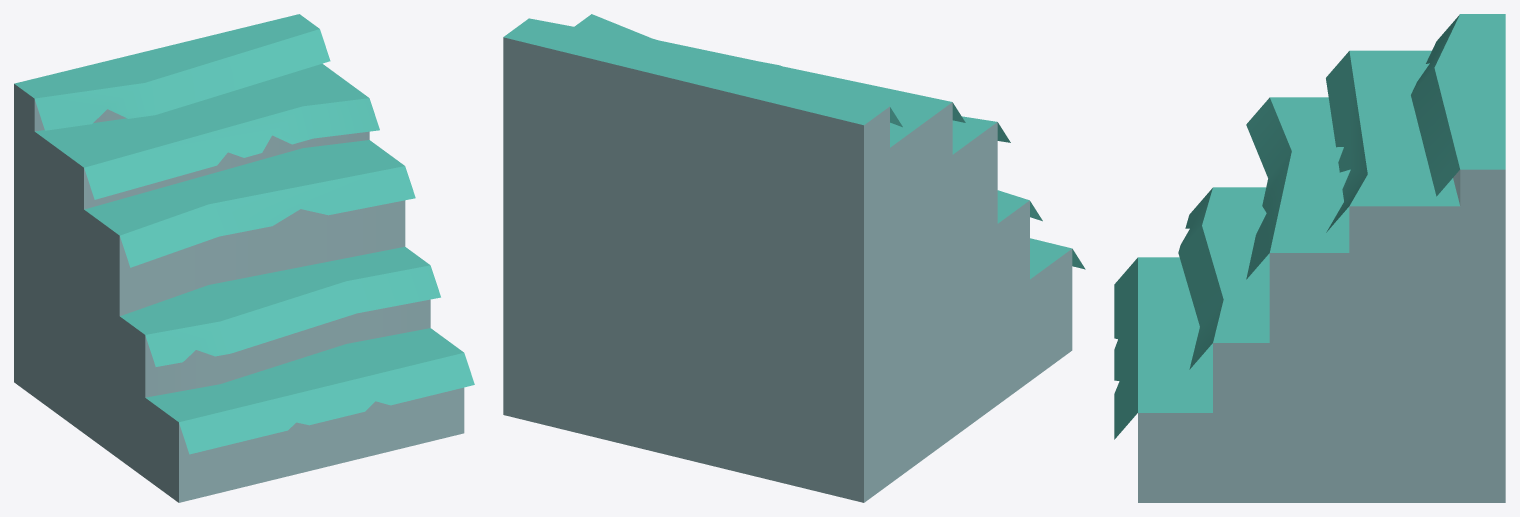
File: cliffGrey_steps.fbx
3 renders of one model, left to right at view 1: azimuth 30°, elevation 25°; view 2: azimuth 150°, elevation 25°; view 3: azimuth 270°, elevation 25°, orthographic. The views are drawn at different scales.
Parts seen in each view (by area): view 1: cliffGrey_steps; view 2: cliffGrey_steps; view 3: cliffGrey_steps.
Part boxes in pixels (box(x1,y1,x2,y2)): cliffGrey_steps: box(14, 14, 474, 502); cliffGrey_steps: box(503, 14, 1085, 502); cliffGrey_steps: box(1114, 14, 1505, 502).
Size of the model in its own units: 10 by 10 by 10.64.
